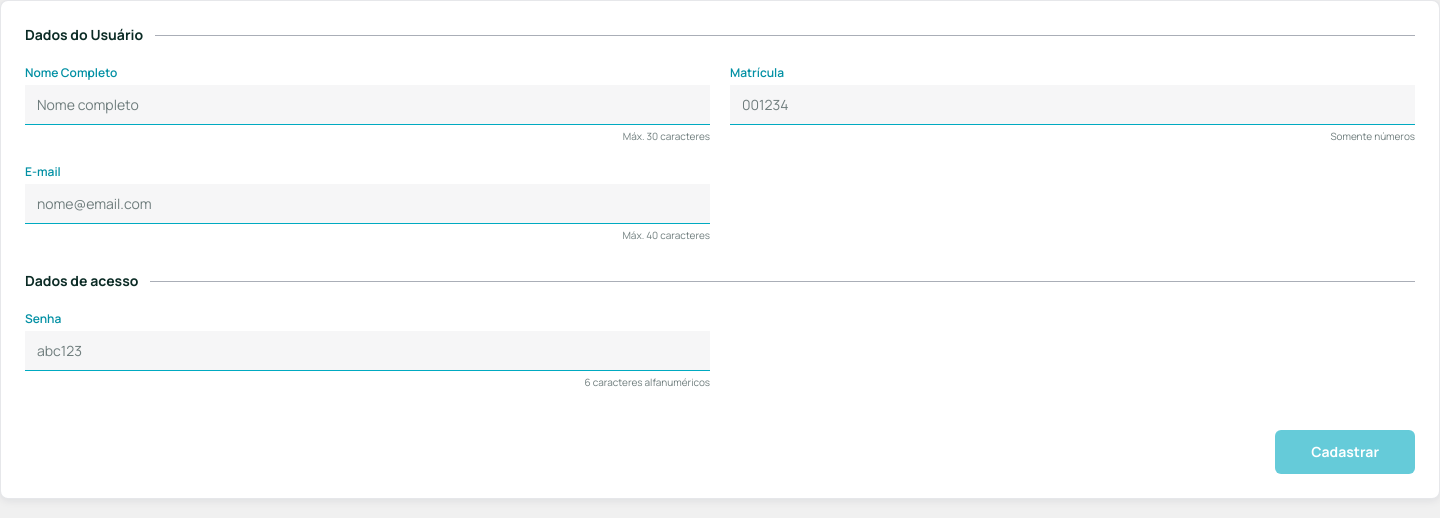
UserForm › displays an error for an invalid email
Type "maria-email.com" into the field labelled "E-mail". click: (368, 204)
box: [25,184,710,224]
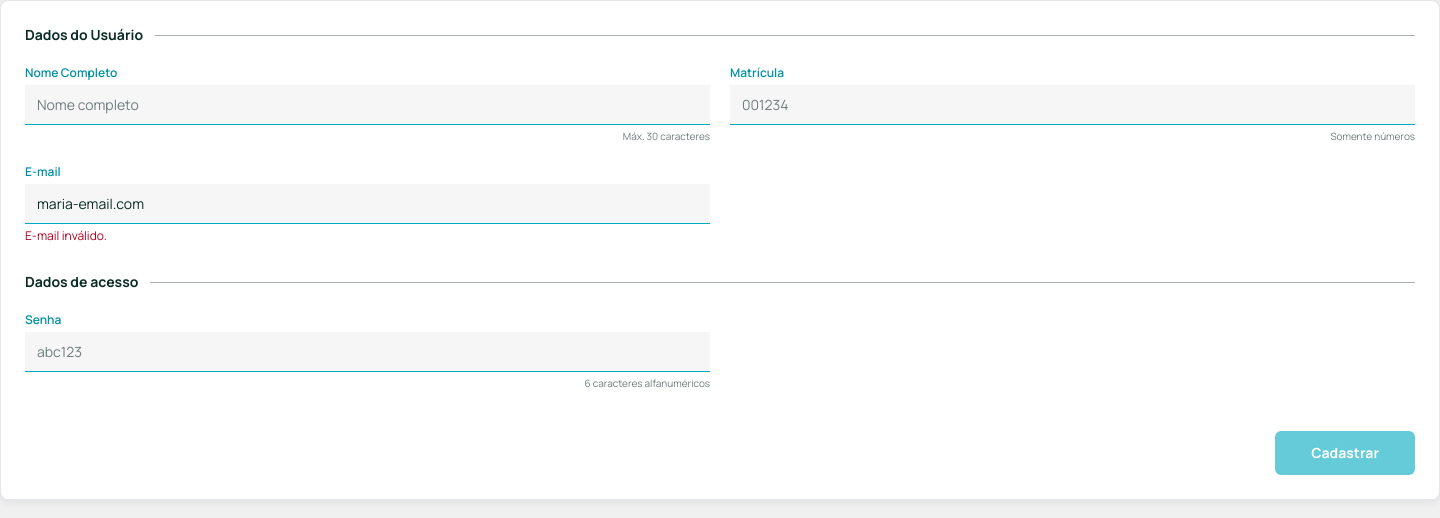
Expected: the message reads "E-mail inválido.", [25,227,107,244]
